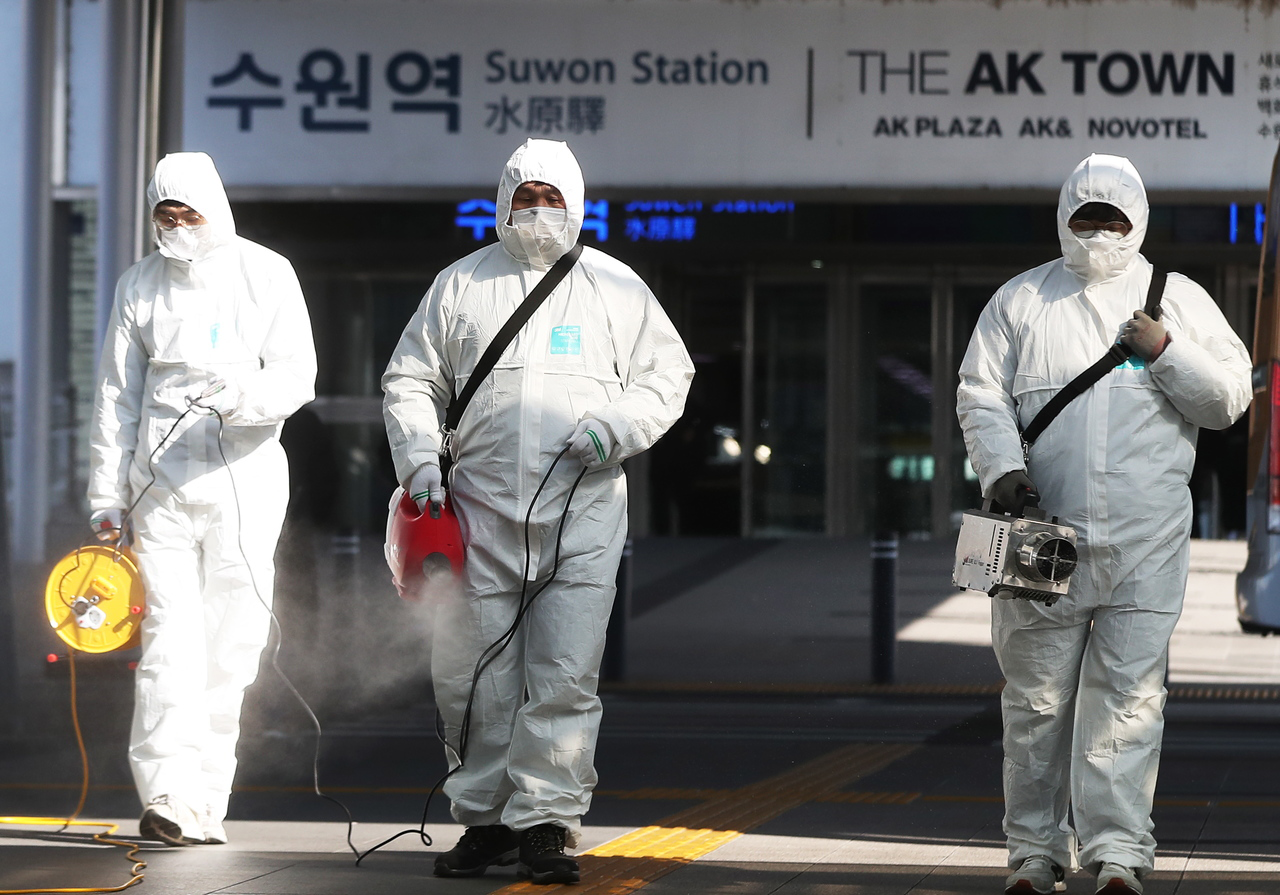Coverall: (962, 150, 1250, 865), (392, 138, 689, 801), (96, 150, 313, 794)
Gloves: (403, 450, 453, 515), (1124, 309, 1177, 369), (993, 467, 1050, 521), (570, 416, 617, 473)
with_mask: (496, 194, 578, 263), (151, 205, 216, 266), (1071, 229, 1132, 282)
